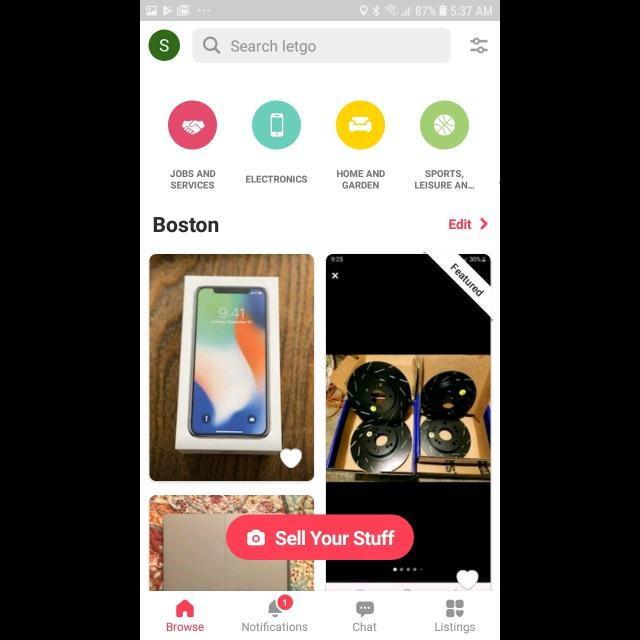icon: (268, 594, 294, 618), (457, 570, 479, 590), (280, 448, 302, 468), (446, 599, 464, 617), (176, 599, 194, 617), (203, 37, 221, 55), (356, 601, 374, 617), (470, 38, 488, 54), (480, 218, 488, 230)
image: (326, 254, 490, 590), (150, 254, 314, 482), (150, 495, 314, 591), (168, 100, 218, 150), (252, 100, 302, 150), (335, 100, 385, 150), (420, 101, 470, 151), (148, 30, 180, 62)
input: (193, 28, 451, 64)
text: (232, 40, 316, 56), (416, 170, 474, 188), (154, 217, 218, 233), (337, 170, 385, 190), (170, 170, 216, 190), (242, 621, 308, 631), (246, 176, 308, 184), (435, 622, 475, 634), (167, 622, 205, 632), (448, 218, 472, 230), (353, 621, 377, 631)
textbutton: (226, 515, 414, 561)
uppertaskbar: (140, 1, 500, 22)
